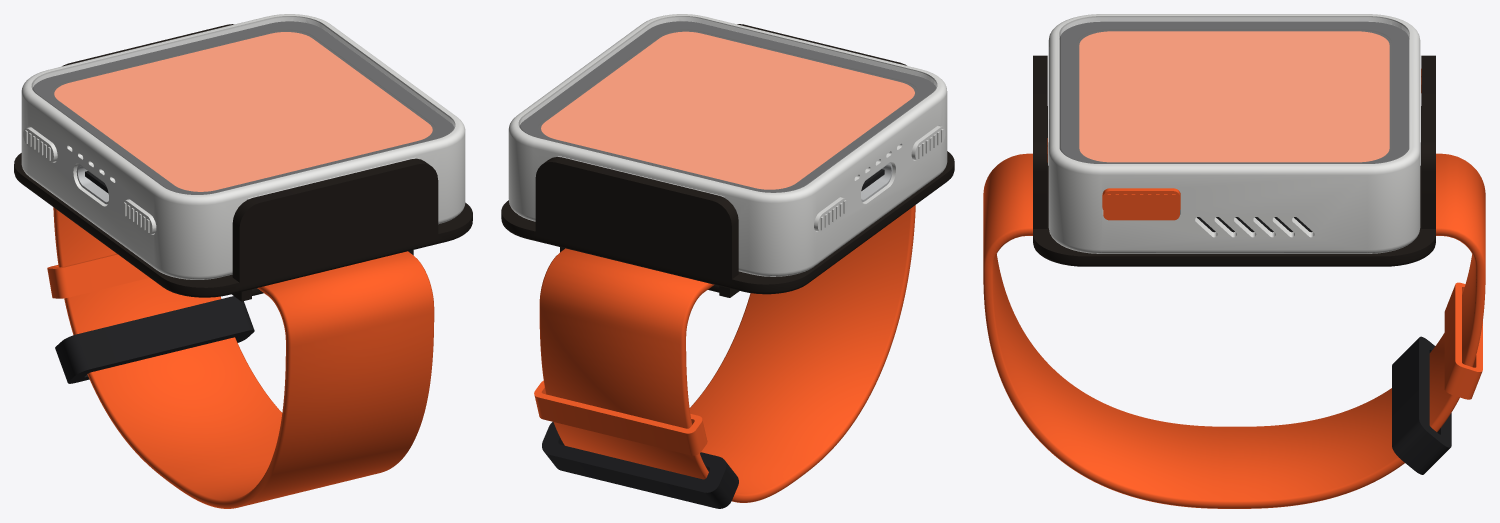
Rendered from watch.glb.
The picture shows the model from 3 angles, left to right: view 1: azimuth 30°, elevation 25°; view 2: azimuth 150°, elevation 25°; view 3: azimuth 270°, elevation 25°; orthographic projection. The views are drawn at different scales.
Visible parts, largest first — view 1: SM_strap, SM_glass, SM_display_screen, SM_case, SM_cradle, SM_buckle, SM_glass_ink, SM_strap_keeper, SM_display, SM_btn_power, SM_btn_boot; view 2: SM_strap, SM_glass, SM_display_screen, SM_case, SM_cradle, SM_glass_ink, SM_buckle, SM_strap_keeper, SM_display, SM_btn_power, SM_btn_boot; view 3: SM_glass, SM_strap, SM_display_screen, SM_case, SM_cradle, SM_glass_ink, SM_buckle, SM_strap_keeper, SM_btn_function, SM_display.
Part boxes in pixels (<box>): SM_strap: <box>53,207,434,508</box>; SM_glass: <box>32,17,454,194</box>; SM_display_screen: <box>54,32,432,191</box>; SM_case: <box>21,14,465,279</box>; SM_cradle: <box>14,24,472,301</box>; SM_buckle: <box>55,296,254,383</box>; SM_glass_ink: <box>32,21,454,194</box>; SM_strap_keeper: <box>47,253,149,298</box>; SM_display: <box>51,30,435,191</box>; SM_btn_power: <box>122,199,156,234</box>; SM_btn_boot: <box>23,127,57,162</box>; SM_strap: <box>539,205,915,502</box>; SM_glass: <box>519,17,936,192</box>; SM_display_screen: <box>541,31,914,189</box>; SM_case: <box>508,14,947,276</box>; SM_cradle: <box>501,24,954,297</box>; SM_glass_ink: <box>519,21,936,192</box>; SM_buckle: <box>542,422,738,508</box>; SM_strap_keeper: <box>534,381,707,455</box>; SM_display: <box>538,30,917,189</box>; SM_btn_power: <box>911,125,945,160</box>; SM_btn_boot: <box>814,197,847,231</box>; SM_glass: <box>1060,17,1408,163</box>; SM_strap: <box>983,153,1485,508</box>; SM_display_screen: <box>1079,31,1389,162</box>; SM_case: <box>1048,14,1420,253</box>; SM_cradle: <box>1033,55,1435,266</box>; SM_glass_ink: <box>1059,21,1409,163</box>; SM_buckle: <box>1392,336,1451,474</box>; SM_strap_keeper: <box>1444,282,1482,399</box>; SM_btn_function: <box>1102,188,1180,220</box>; SM_display: <box>1077,30,1391,161</box>.
Size of the model in its own units: 0.0475 by 0.0522 by 0.0622.
